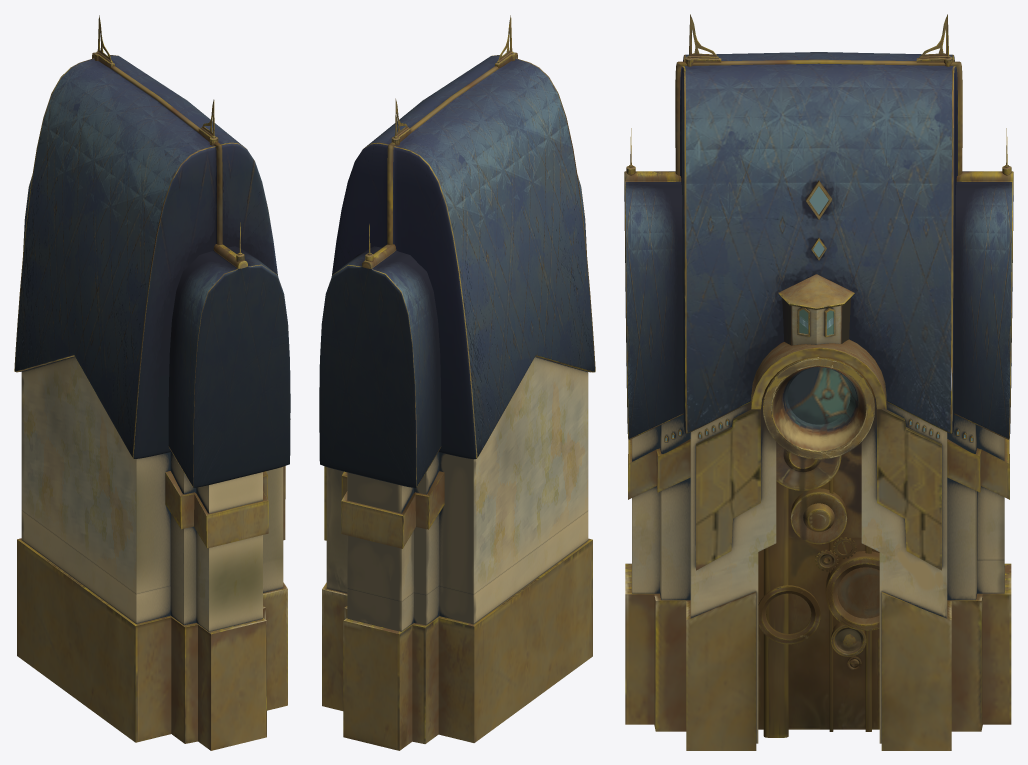
The model's file is MaquinaSt_T.obj.
3 renders of one model, left to right at view 1: azimuth 30°, elevation 25°; view 2: azimuth 150°, elevation 25°; view 3: azimuth 270°, elevation 25°, orthographic. The views are drawn at different scales.
Parts seen in each view (by area): view 1: Cube.024_GOLD_0_FACHADA_az02, Cube.024_GOLD_0_ORO01, Cube.024_GOLD_0_FACHADA_am03; view 2: Cube.024_GOLD_0_FACHADA_az02, Cube.024_GOLD_0_ORO01, Cube.024_GOLD_0_FACHADA_am03; view 3: Cube.024_GOLD_0_FACHADA_az02, Cube.024_GOLD_0_ORO01, Cube.024_GOLD_0_FACHADA_am03.
Part boxes in pixels (bbox=[...]): Cube.024_GOLD_0_FACHADA_az02: bbox=[15, 55, 290, 487]; Cube.024_GOLD_0_ORO01: bbox=[14, 15, 287, 750]; Cube.024_GOLD_0_FACHADA_am03: bbox=[21, 356, 283, 631]; Cube.024_GOLD_0_FACHADA_az02: bbox=[319, 55, 594, 487]; Cube.024_GOLD_0_ORO01: bbox=[322, 15, 595, 750]; Cube.024_GOLD_0_FACHADA_am03: bbox=[326, 357, 588, 631]; Cube.024_GOLD_0_FACHADA_az02: bbox=[624, 52, 1013, 438]; Cube.024_GOLD_0_ORO01: bbox=[624, 14, 1013, 750]; Cube.024_GOLD_0_FACHADA_am03: bbox=[632, 298, 1004, 743].
Bounding box in the file's own units: 20.03 × 65.25 × 33.01.
